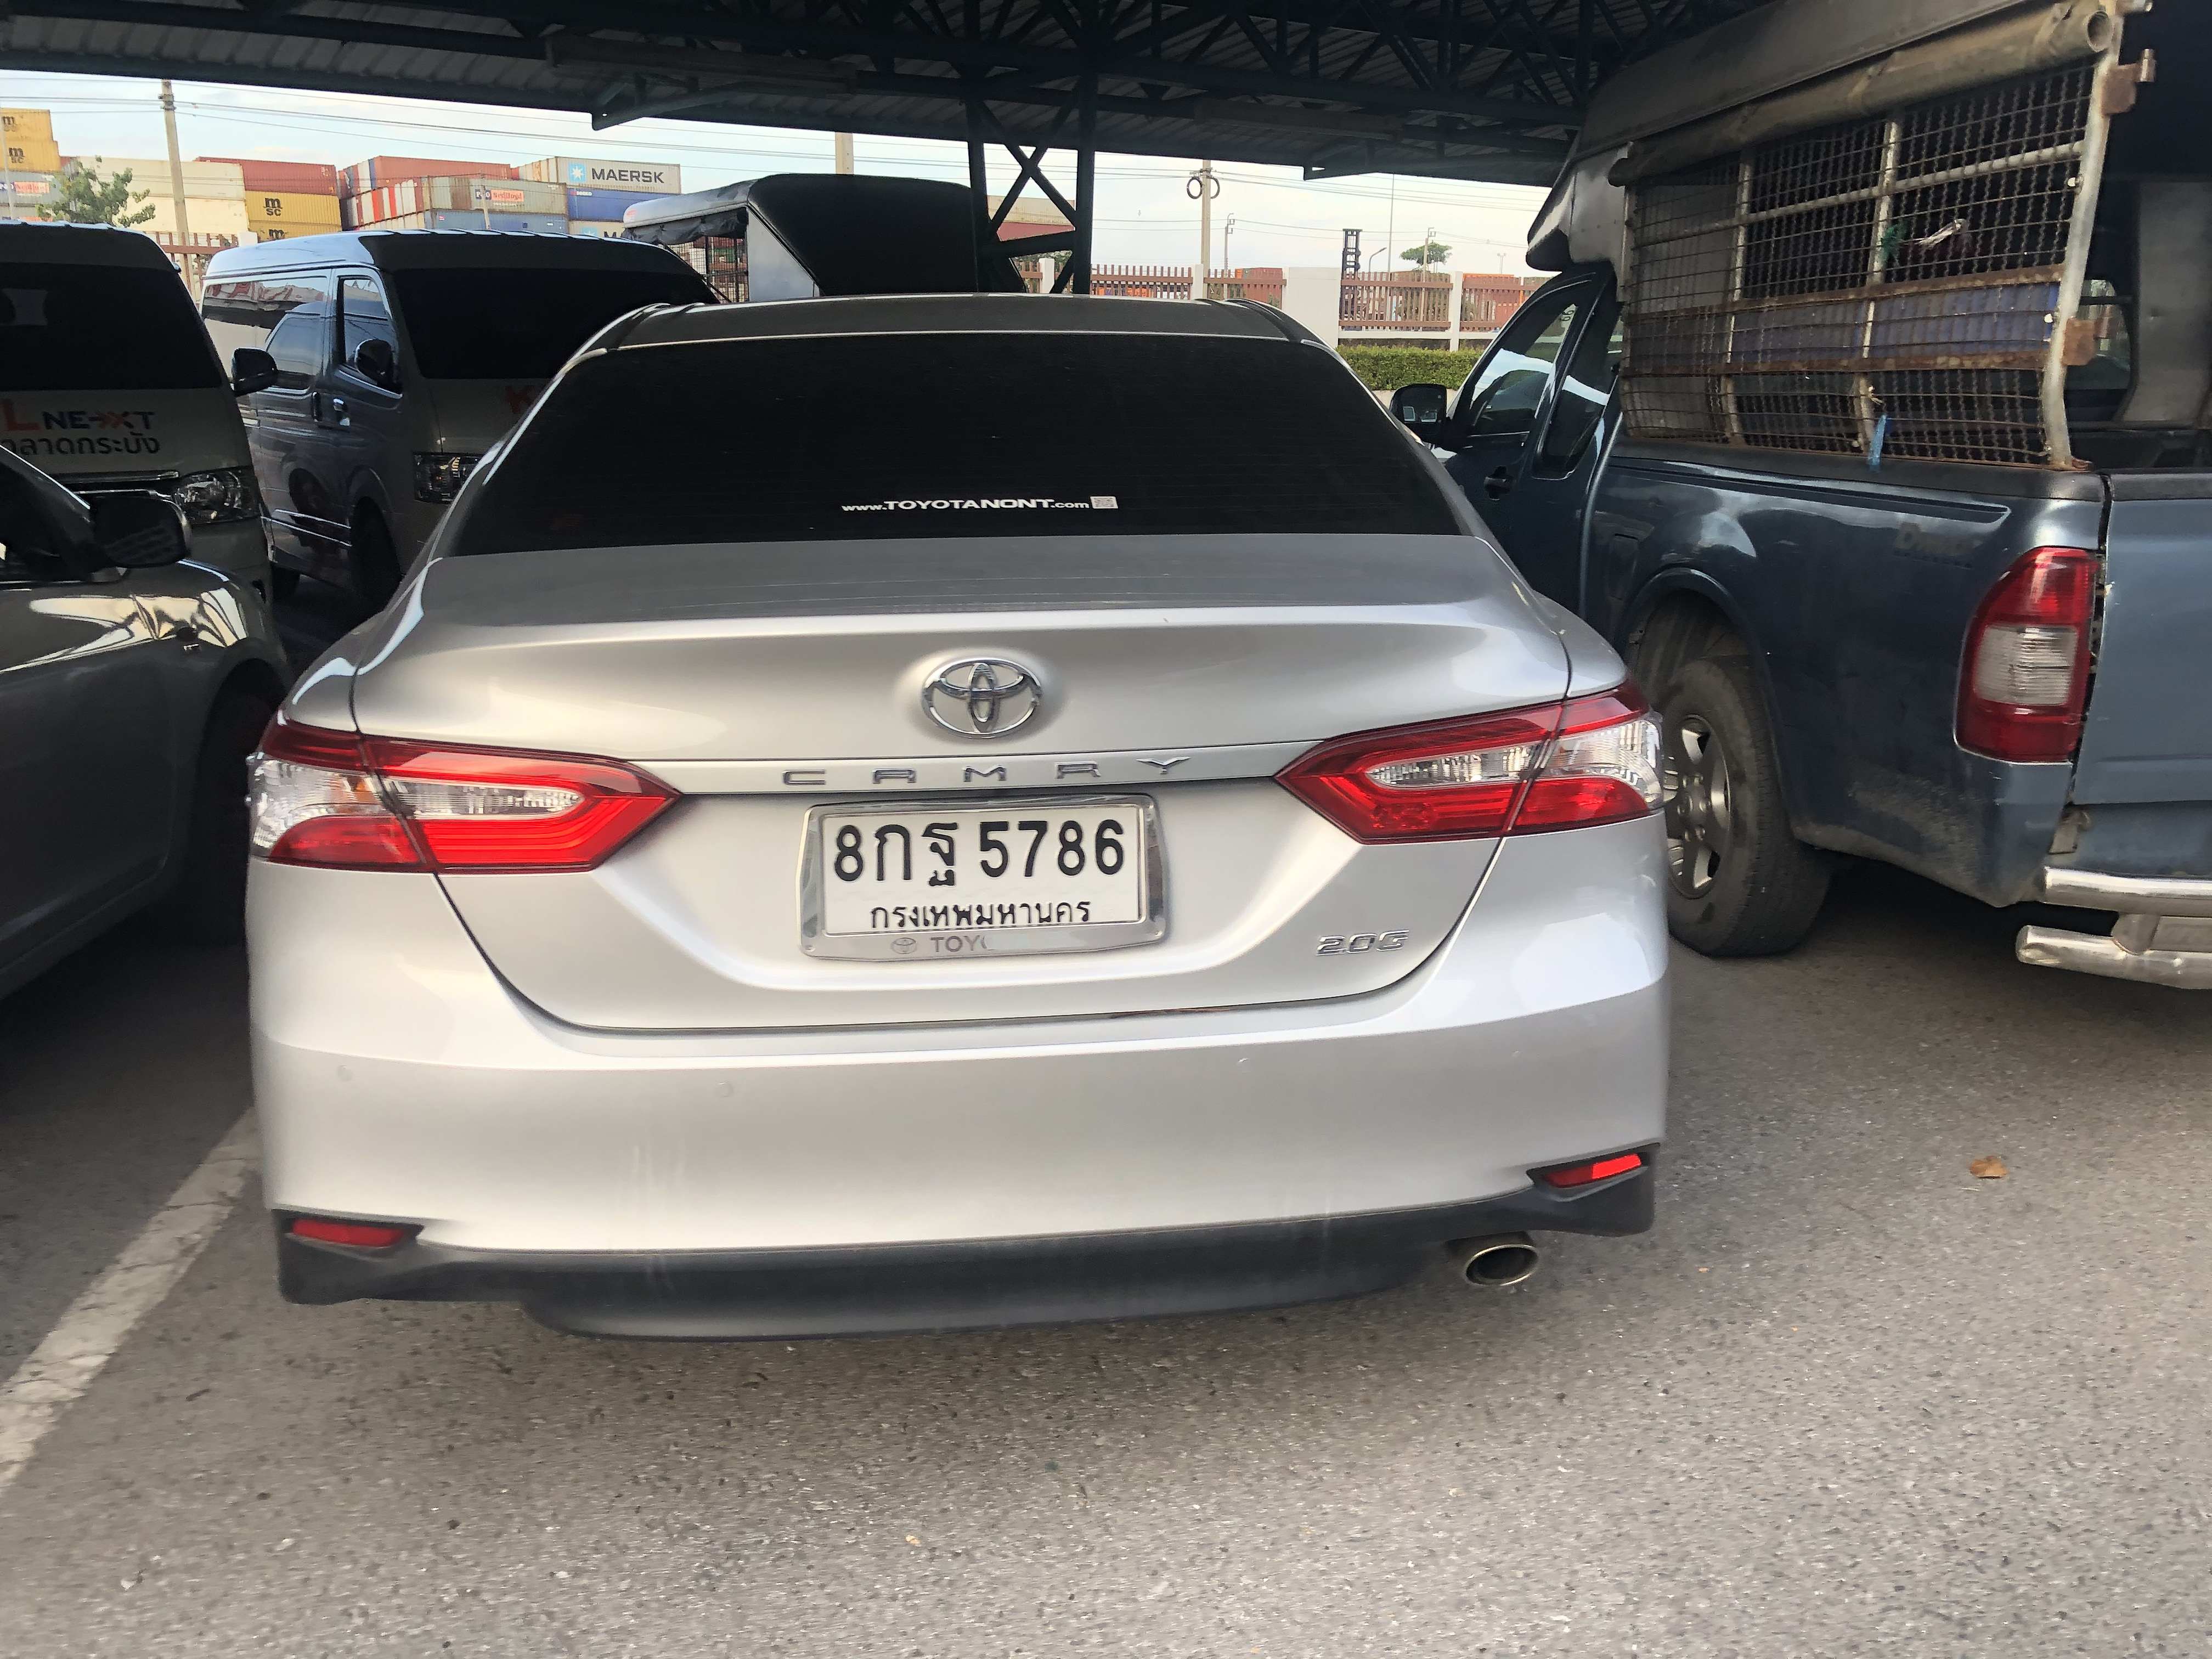in: (826, 814, 1137, 927)
out: (794, 800, 1176, 964)
